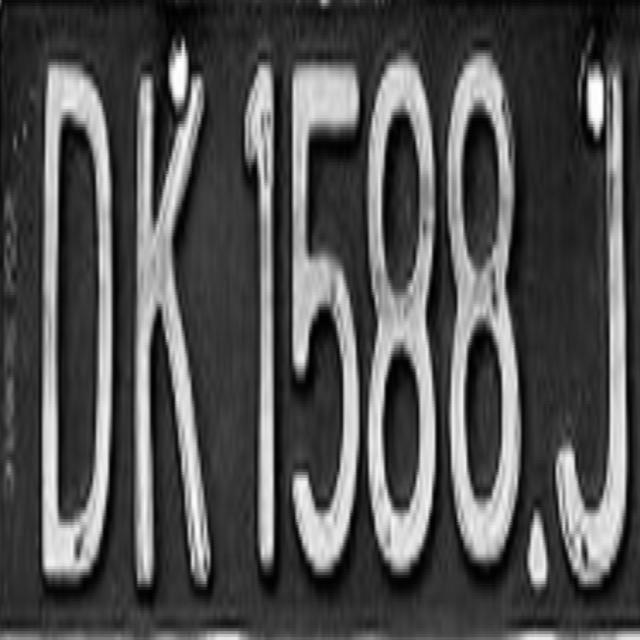1: (233, 40, 293, 584)
5: (291, 54, 358, 583)
8: (443, 40, 529, 578), (360, 53, 444, 578)
D: (35, 56, 126, 594)
J: (540, 36, 640, 604)
K: (128, 69, 222, 591)
